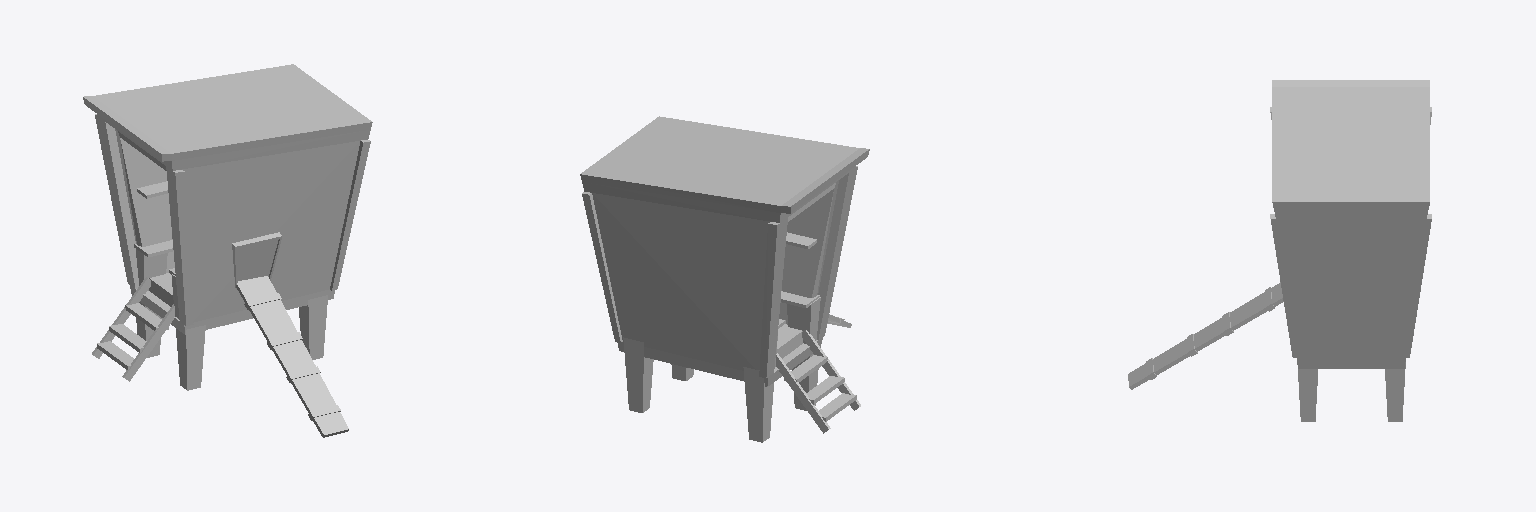
Rendered from chickenhouse.obj.
The picture shows the model from 3 angles: view 1: azimuth 30°, elevation 25°; view 2: azimuth 150°, elevation 25°; view 3: azimuth 270°, elevation 25°; orthographic projection.
Parts seen in each view (by area): view 1: pCube609; view 2: pCube609; view 3: pCube609.
Boxes of the visible parts, x1,y1,x2,y2 form: pCube609: [83, 64, 372, 437]; pCube609: [580, 116, 869, 442]; pCube609: [1128, 80, 1431, 421].
Size of the model in its own units: 4.94 by 5.37 by 5.77.